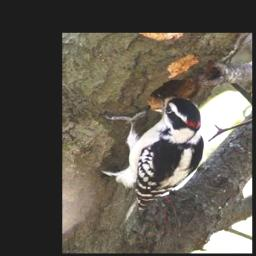Woodpecker: (101, 91, 204, 218)
